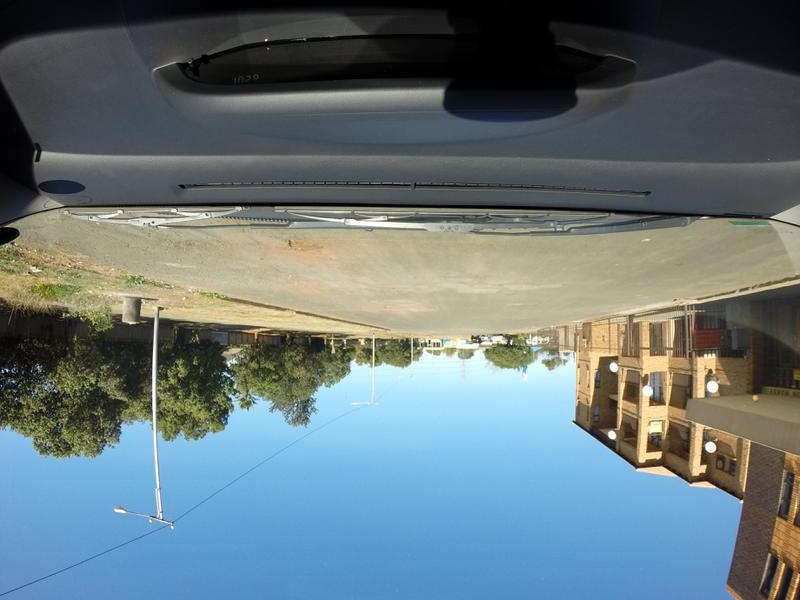pothole: (285, 240, 323, 251), (176, 240, 211, 250)
